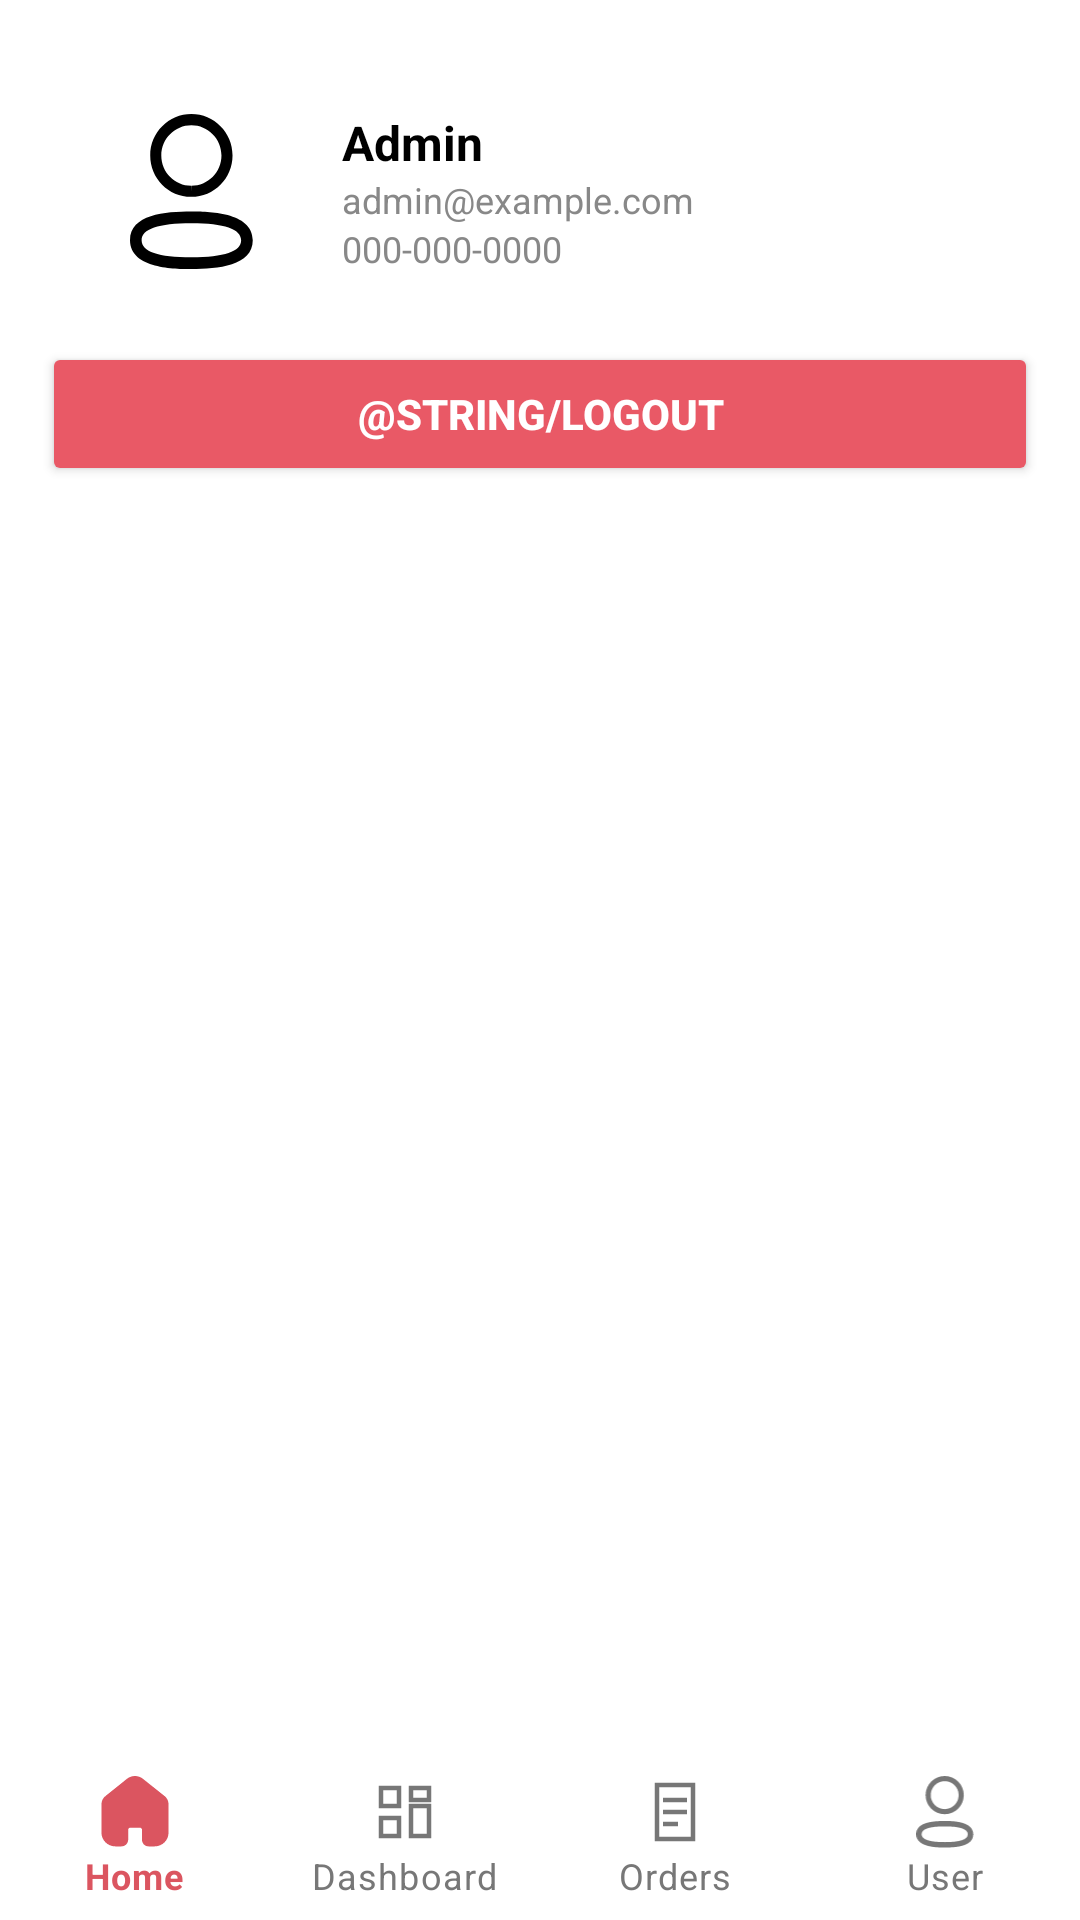

Icons on this 1080w x 1920h Android screen, each with the point to tap as (x,y):
profile: (191,191)
